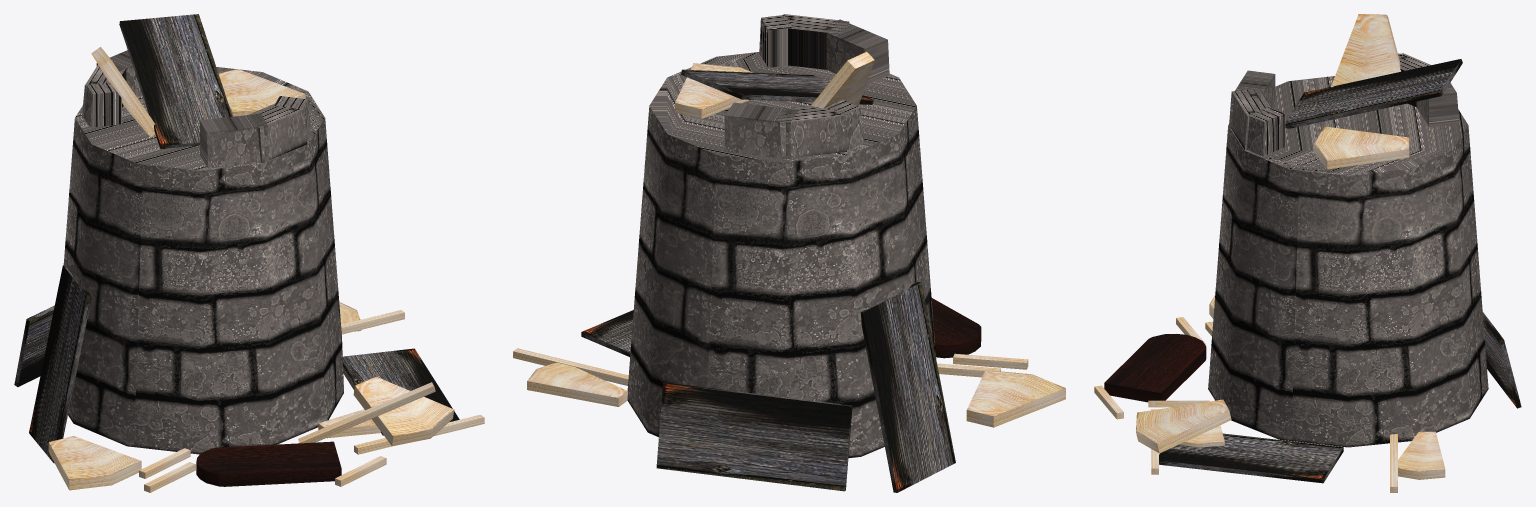
File: allbreaktower.fbx
3 views of the same model, side by side, from view 1: azimuth 30°, elevation 25°; view 2: azimuth 150°, elevation 25°; view 3: azimuth 270°, elevation 25° (orthographic). The views are drawn at different scales.
Visible parts, largest first — view 1: Cone001, Box047, Box046, Box030, Box028, Box029, Box039, Box038, Box044, Box048, Box041, Box045 (+9 smaller); view 2: Cone001, Box045, Box046, Box044, Box029, Box047, Box051, Box039, Box041, Box030, Box048, Box049 (+4 smaller); view 3: Cone001, Box038, Box047, Box030, Box049, Box028, Box048, Box051, Box040, Box044, Box045, Box041 (+3 smaller).
Part boxes in pixels (x1,y1,x2,y2): Cone001: (63, 67, 343, 454); Box047: (119, 14, 232, 149); Box046: (29, 265, 91, 463); Box030: (196, 441, 341, 486); Box028: (353, 376, 454, 446); Box029: (48, 436, 141, 490); Box039: (200, 113, 269, 168); Box038: (342, 348, 459, 435); Box044: (82, 50, 142, 127); Box048: (218, 69, 305, 116); Box041: (244, 100, 307, 163); Box045: (14, 305, 54, 386); Cone001: (627, 52, 936, 458); Box045: (656, 382, 852, 491); Box046: (860, 282, 955, 492); Box044: (724, 99, 863, 159); Box029: (966, 370, 1065, 427); Box047: (681, 69, 873, 104); Box051: (527, 362, 627, 406); Box039: (819, 19, 889, 85); Box041: (779, 14, 849, 69); Box030: (931, 298, 981, 358); Box048: (675, 63, 752, 118); Box049: (811, 51, 874, 108); Cone001: (1208, 76, 1488, 447); Box038: (1159, 433, 1343, 483); Box047: (1285, 59, 1462, 128); Box030: (1104, 334, 1206, 402); Box049: (1331, 14, 1400, 87); Box028: (1136, 399, 1231, 453); Box048: (1314, 126, 1409, 169); Box051: (1398, 431, 1445, 479); Box040: (1247, 107, 1285, 156); Box044: (1398, 53, 1459, 126); Box045: (1482, 312, 1521, 408); Box041: (1229, 89, 1274, 149).
Size of the model in its own units: 1781 by 1531 by 1617.
